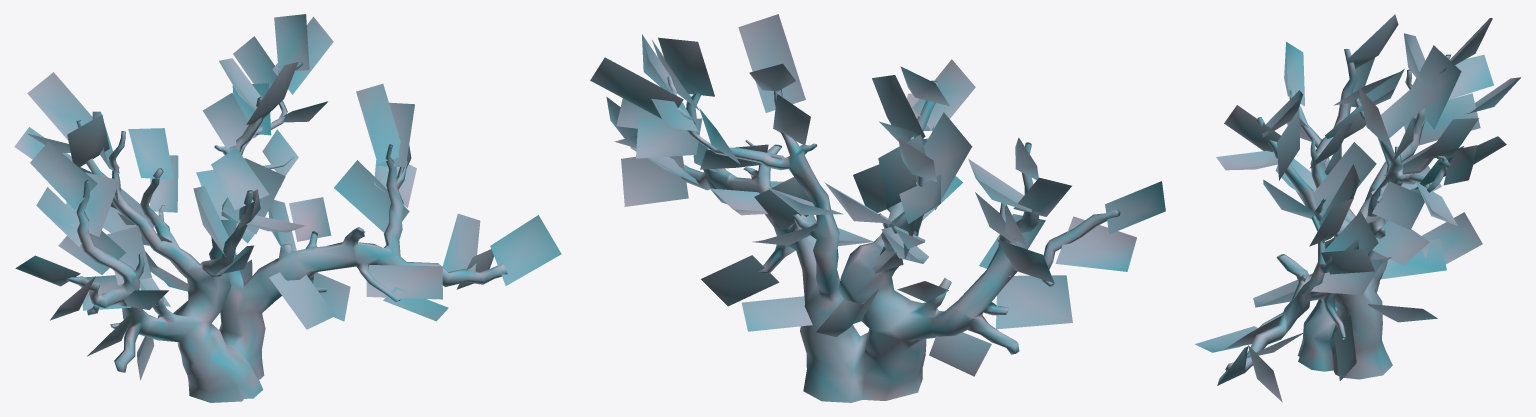
3 renders of one model, left to right at view 1: azimuth 30°, elevation 25°; view 2: azimuth 150°, elevation 25°; view 3: azimuth 270°, elevation 25°, orthographic. The views are drawn at different scales.
Visible parts, largest first — view 1: G:\FFXIV-MapTools\exports\e3f1\bg\ex2\02_est_e3\fld\e3f1\bgp (×2); view 2: G:\FFXIV-MapTools\exports\e3f1\bg\ex2\02_est_e3\fld\e3f1\bgp (×2); view 3: G:\FFXIV-MapTools\exports\e3f1\bg\ex2\02_est_e3\fld\e3f1\bgp (×2).
Part boxes in pixels (<box>): G:\FFXIV-MapTools\exports\e3f1\bg\ex2\02_est_e3\fld\e3f1\bgp (×2): <box>14,14,561,402</box>; G:\FFXIV-MapTools\exports\e3f1\bg\ex2\02_est_e3\fld\e3f1\bgp (×2): <box>590,14,1165,402</box>; G:\FFXIV-MapTools\exports\e3f1\bg\ex2\02_est_e3\fld\e3f1\bgp (×2): <box>1195,14,1520,402</box>.
Bounding box in the file's own units: 24.62 × 13.9 × 13.45.
